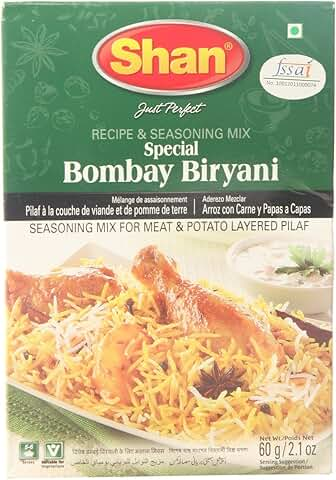Biryani: (7, 8, 336, 480)
